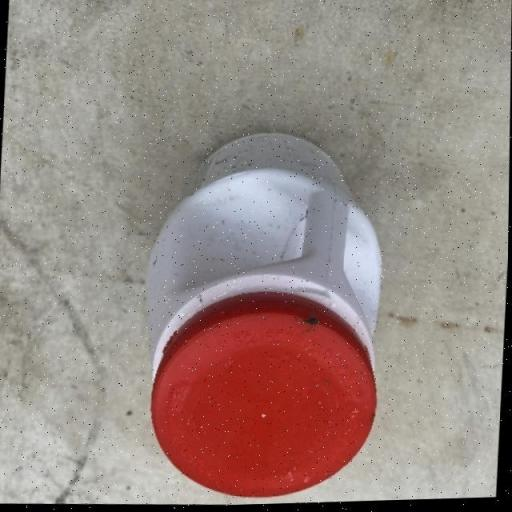plastic: (134, 125, 392, 505)
